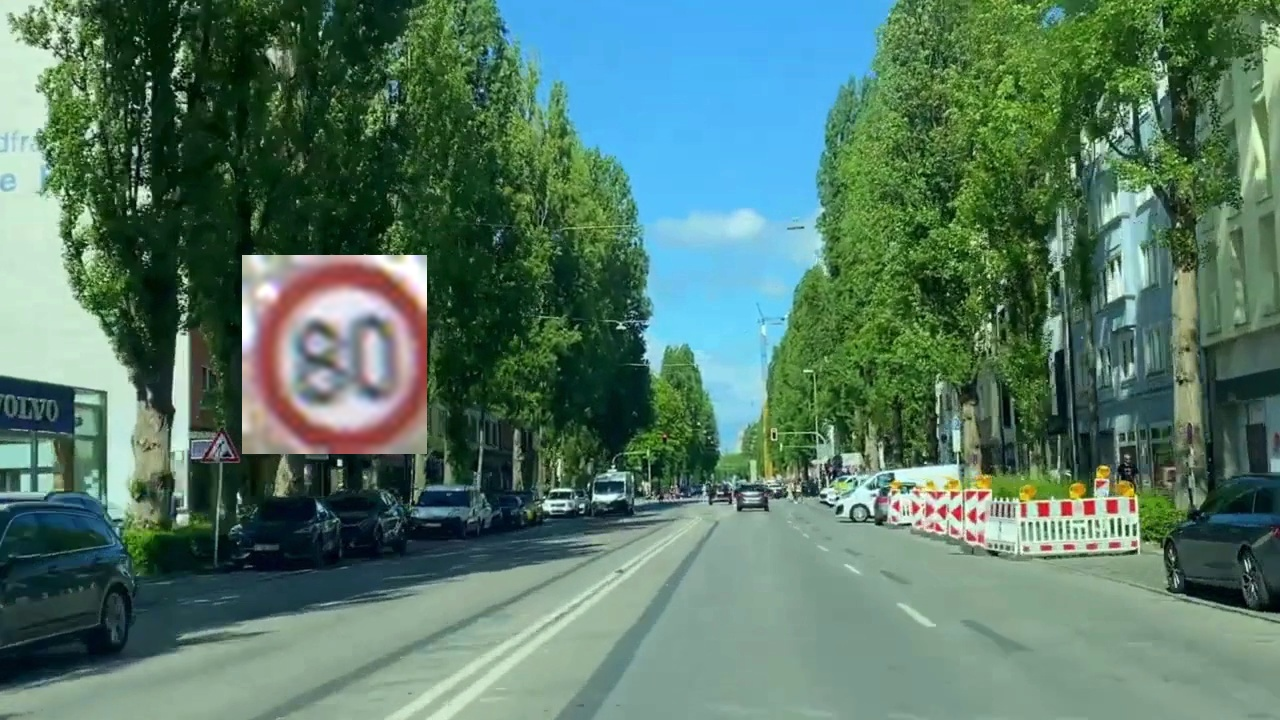Speed 80: (242, 255, 427, 454)
